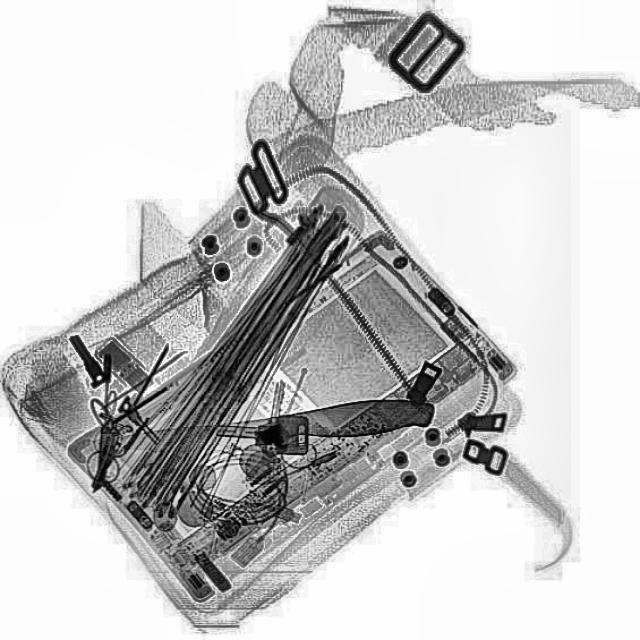Knife: (99, 394, 434, 456)
